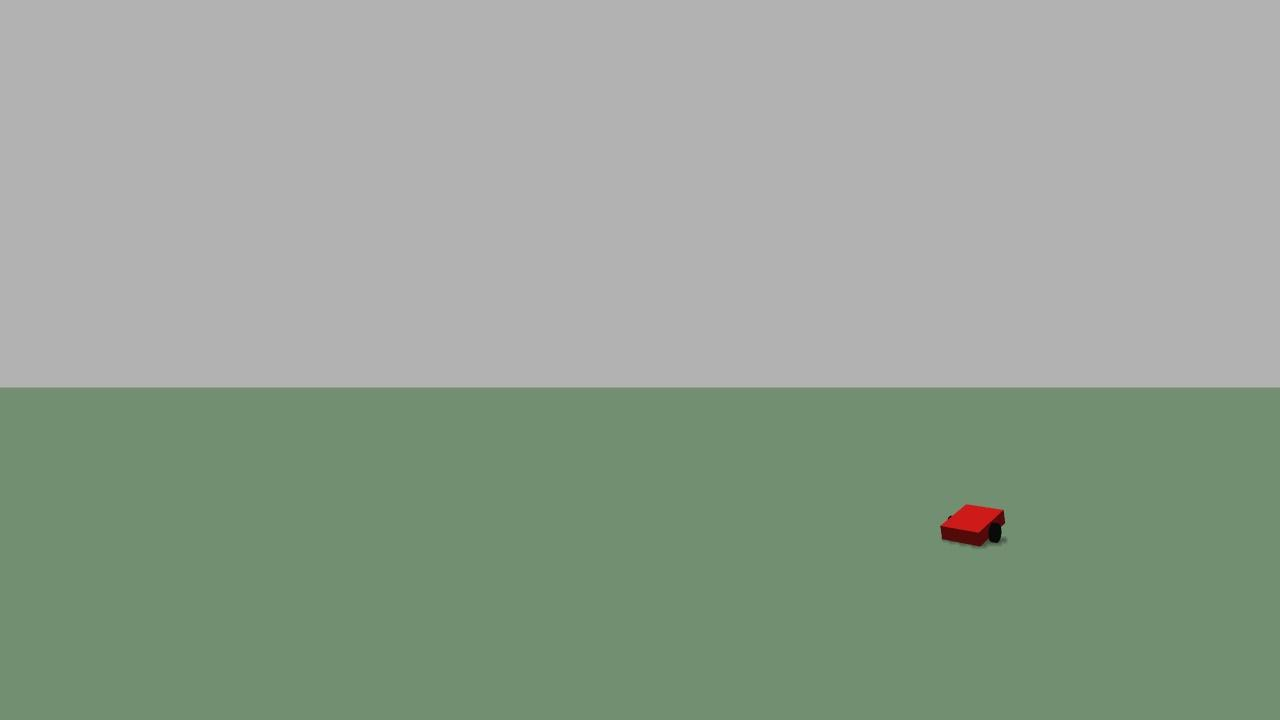ground_vehicle: (935, 487, 1019, 546)
